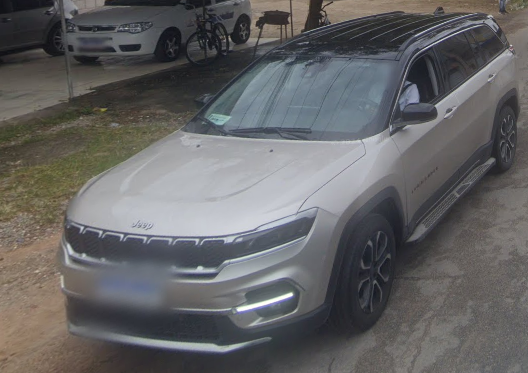car: (53, 9, 520, 343)
